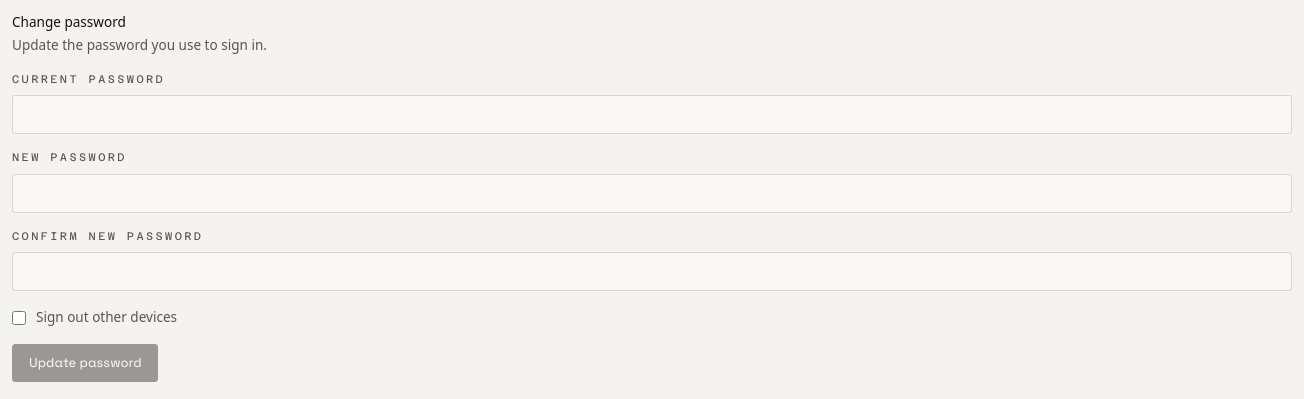
Scenario: PasswordCard › keeps the submit disabled until the form is valid
This screenshot has width=1304, height=399.
Check: the button "Update password" is disabled, box x1=12 y1=344 x2=158 y2=382
Fill current + a matching 8+ char new/confirm to satisfy validity.
Type "oldpassword" into the password field labelled "Current password" at x=652, y=115, box x1=12 y1=95 x2=1292 y2=134
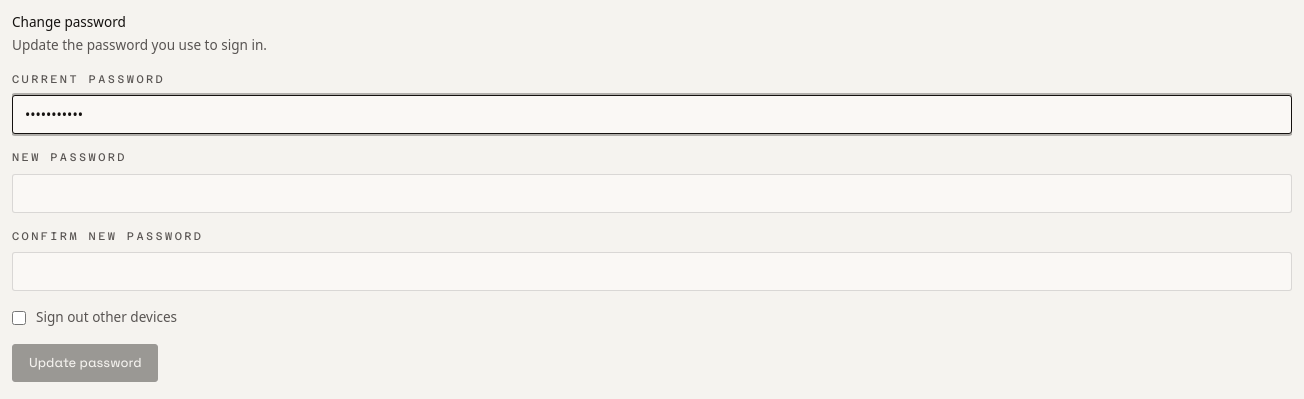
Type "newpassword1" into the password field labelled "New password" at x=652, y=193, box x1=12 y1=174 x2=1292 y2=213
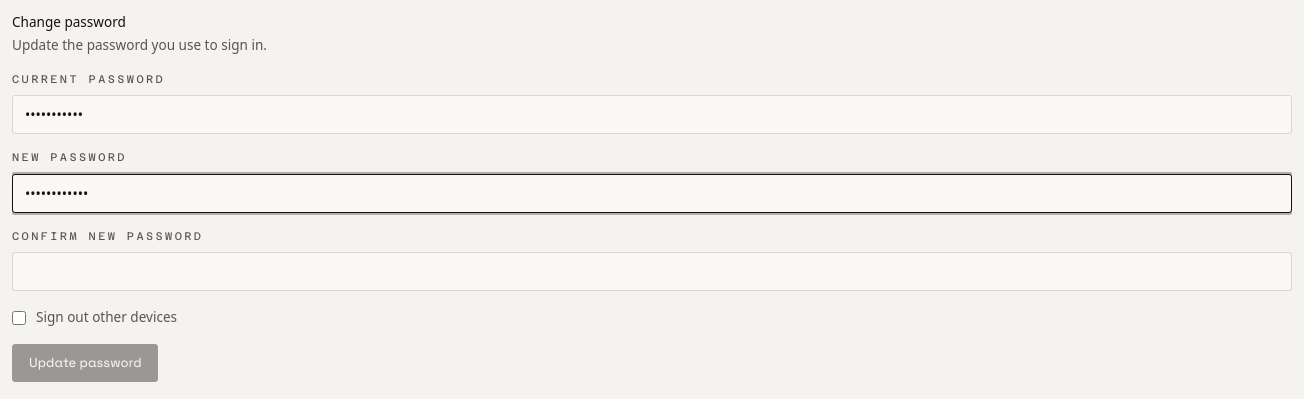
Type "newpassword1" into the password field labelled "Confirm new password" at x=652, y=272, box x1=12 y1=252 x2=1292 y2=291
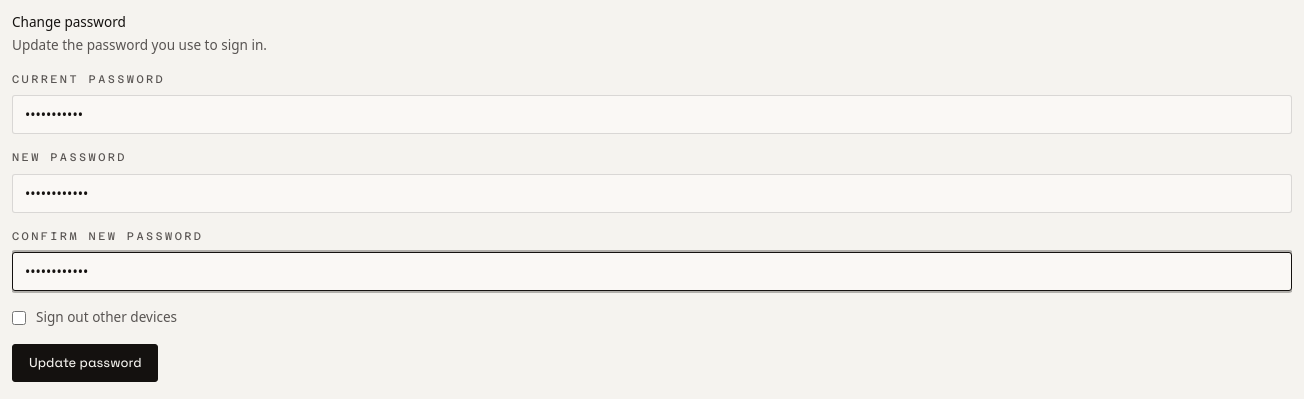
Check: the button "Update password" is enabled, box x1=12 y1=344 x2=158 y2=382
